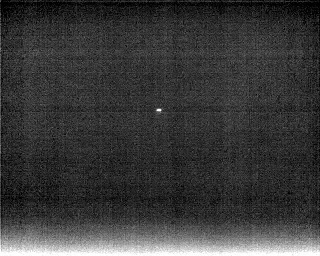BIRD: (154, 106, 163, 114)
